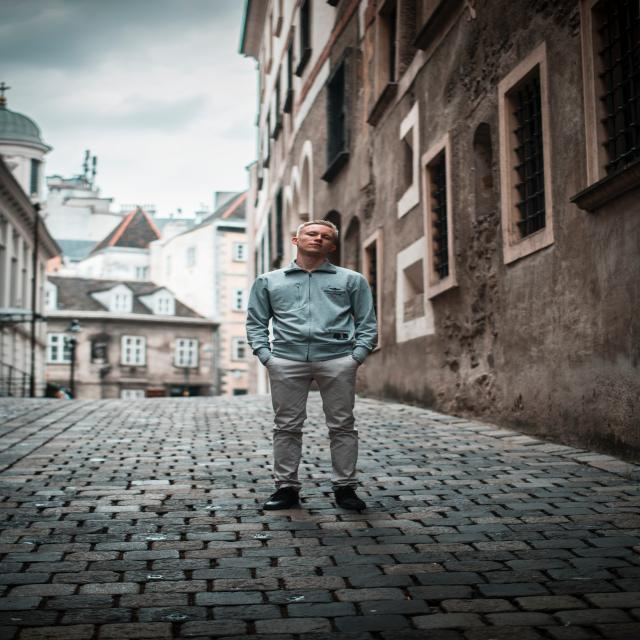standing: (243, 219, 383, 517)
